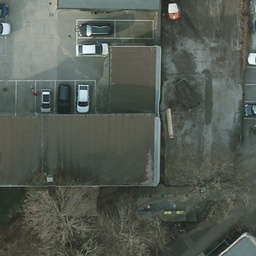car: (75, 42, 109, 58), (79, 23, 115, 38), (56, 80, 72, 113), (74, 85, 89, 113), (40, 86, 52, 113), (0, 22, 12, 36)
van: (0, 2, 9, 19)
